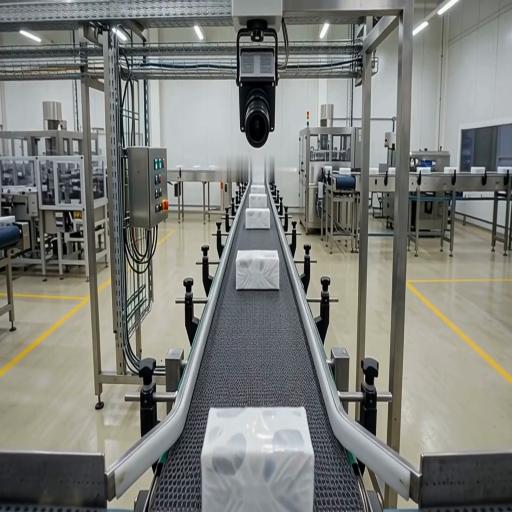good: (202, 408, 314, 511), (236, 250, 279, 289), (246, 208, 270, 229), (249, 193, 266, 208), (251, 185, 266, 193)
